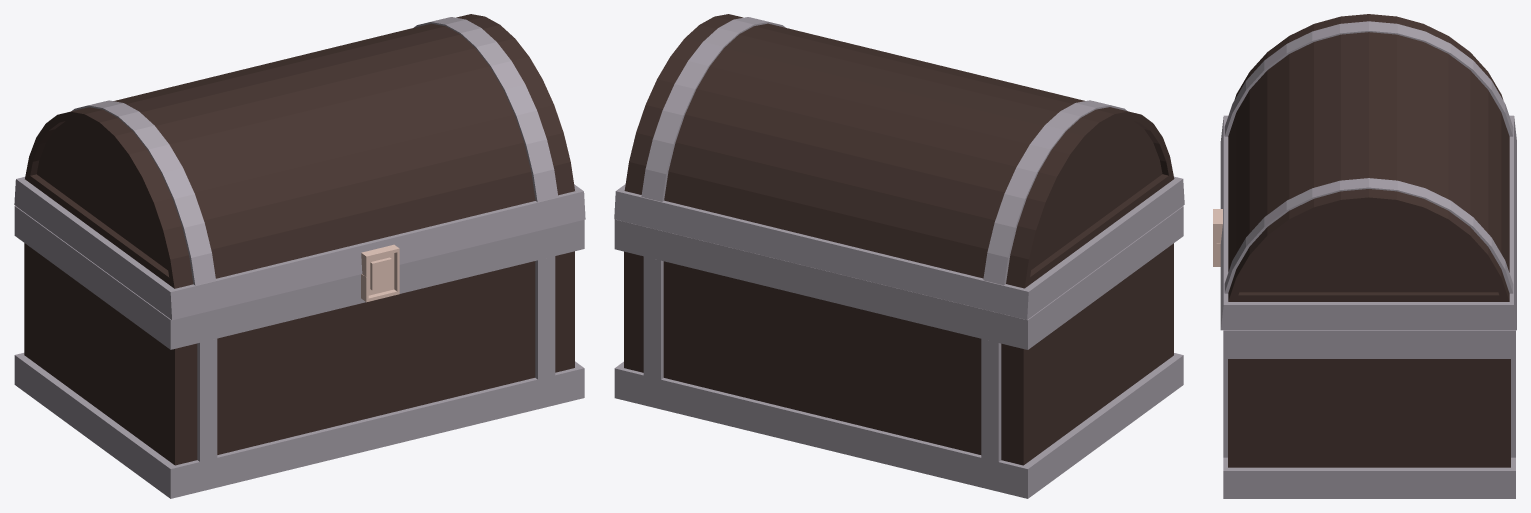
File: TreasureChest.gltf
3 views of the same model, side by side, from view 1: azimuth 30°, elevation 25°; view 2: azimuth 150°, elevation 25°; view 3: azimuth 270°, elevation 25° (orthographic). The views are drawn at different scales.
Parts seen in each view (by area): view 1: TreasureChaseTop, TreasuerChestBase; view 2: TreasureChaseTop, TreasuerChestBase; view 3: TreasureChaseTop, TreasuerChestBase.
Part boxes in pixels (left/top/right/bottom): TreasureChaseTop: left=14, top=14, right=585, bottom=320; TreasuerChestBase: left=14, top=205, right=584, bottom=498; TreasureChaseTop: left=614, top=14, right=1184, bottom=319; TreasuerChestBase: left=614, top=206, right=1183, bottom=498; TreasureChaseTop: left=1213, top=14, right=1516, bottom=330; TreasuerChestBase: left=1213, top=243, right=1515, bottom=498.
Size of the model in its own units: 0.5302 by 0.3909 by 0.3593.
